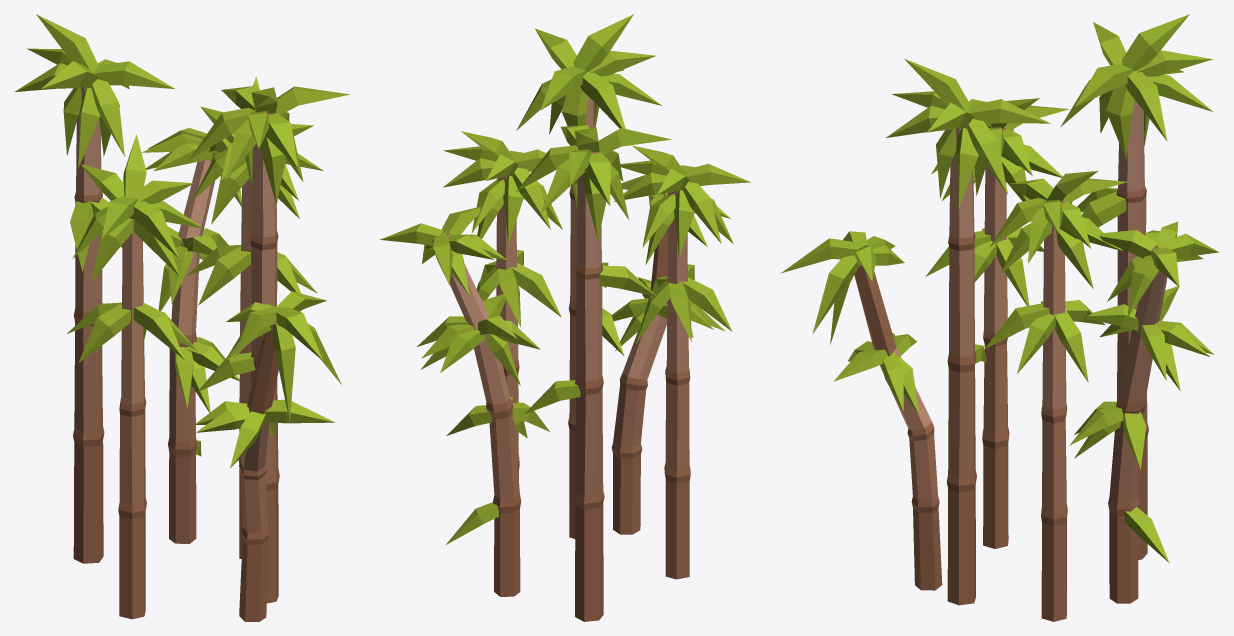
Rendered from bamboo_leaf_4.fbx.
3 views of the same model, side by side, from view 1: azimuth 30°, elevation 25°; view 2: azimuth 150°, elevation 25°; view 3: azimuth 270°, elevation 25° (orthographic). The views are drawn at different scales.
Visible parts, largest first — view 1: bamboo_leaf_4; view 2: bamboo_leaf_4; view 3: bamboo_leaf_4.
Boxes of the visible parts, bbox=[...] form: bamboo_leaf_4: bbox=[15, 14, 350, 621]; bamboo_leaf_4: bbox=[380, 14, 750, 621]; bamboo_leaf_4: bbox=[781, 14, 1218, 621].
Bounding box in the file's own units: 267 × 489 × 368.
